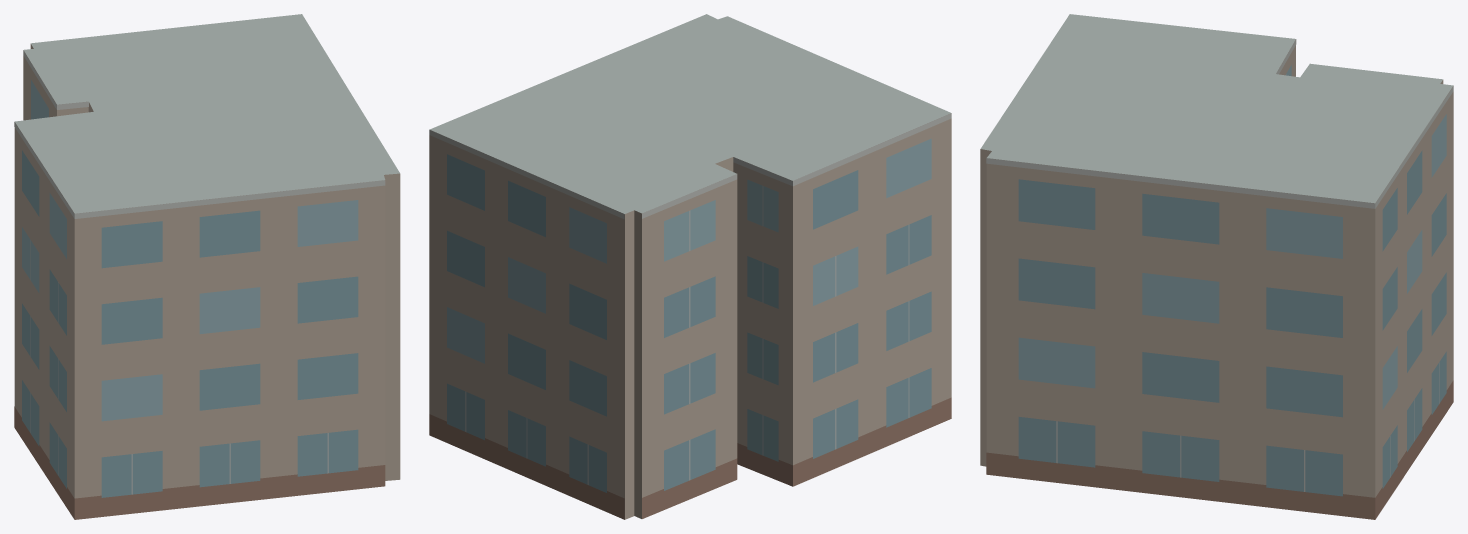
File: survey-upis-32638730.glb
The picture shows the model from 3 angles, left to right: view 1: azimuth 30°, elevation 25°; view 2: azimuth 150°, elevation 25°; view 3: azimuth 270°, elevation 25°; orthographic projection. The views are drawn at different scales.
Visible parts, largest first — view 1: survey-upis-32638730.tmp; view 2: survey-upis-32638730.tmp; view 3: survey-upis-32638730.tmp.
Part boxes in pixels (box(x1,y1,x2,y2)): survey-upis-32638730.tmp: box(14, 14, 400, 519); survey-upis-32638730.tmp: box(429, 14, 951, 519); survey-upis-32638730.tmp: box(980, 14, 1453, 519).
Bounding box in the file's own units: 17.57 × 13.7 × 18.57.
